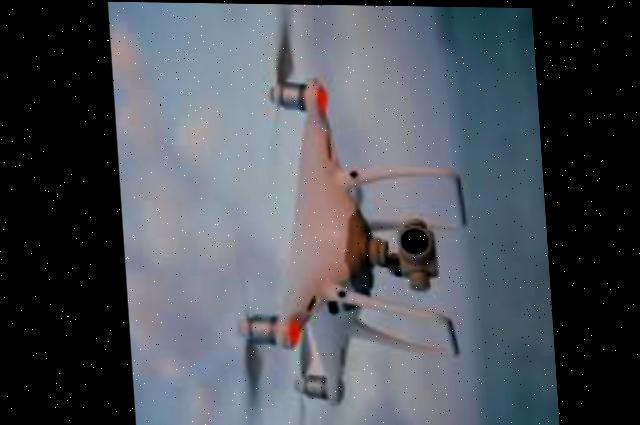drone: (203, 2, 495, 425)
